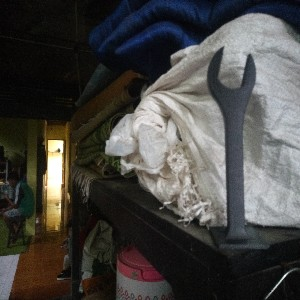spanner: (207, 46, 271, 251)
